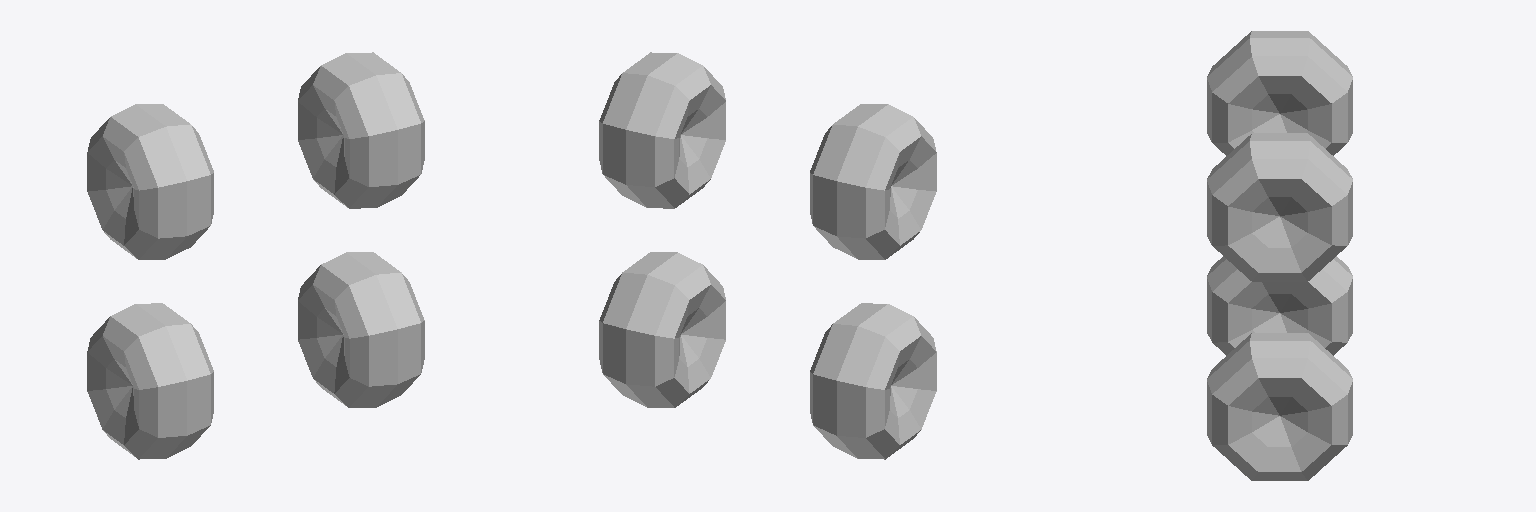
File: wheels.obj
3 renders of one model, left to right at view 1: azimuth 30°, elevation 25°; view 2: azimuth 150°, elevation 25°; view 3: azimuth 270°, elevation 25°, orthographic.
Visible parts, largest first — view 1: wheels; view 2: wheels; view 3: wheels.
Boxes of the visible parts, <box> form: wheels: <box>87,52,424,459</box>; wheels: <box>599,52,936,459</box>; wheels: <box>1207,31,1352,480</box>.
Bounding box in the file's own units: 2.08 × 2.31 × 0.9239.